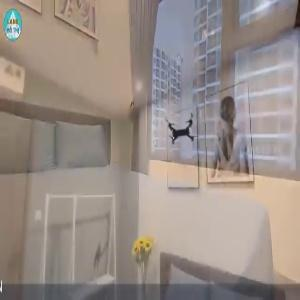drone: (150, 99, 214, 163)
